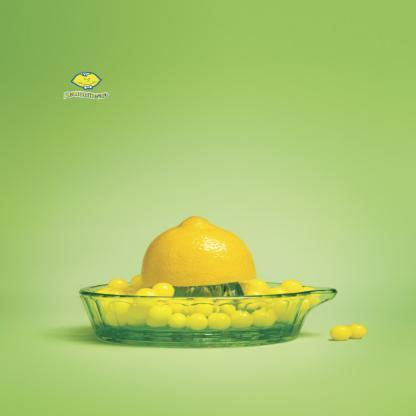lemon: (142, 215, 257, 283)
